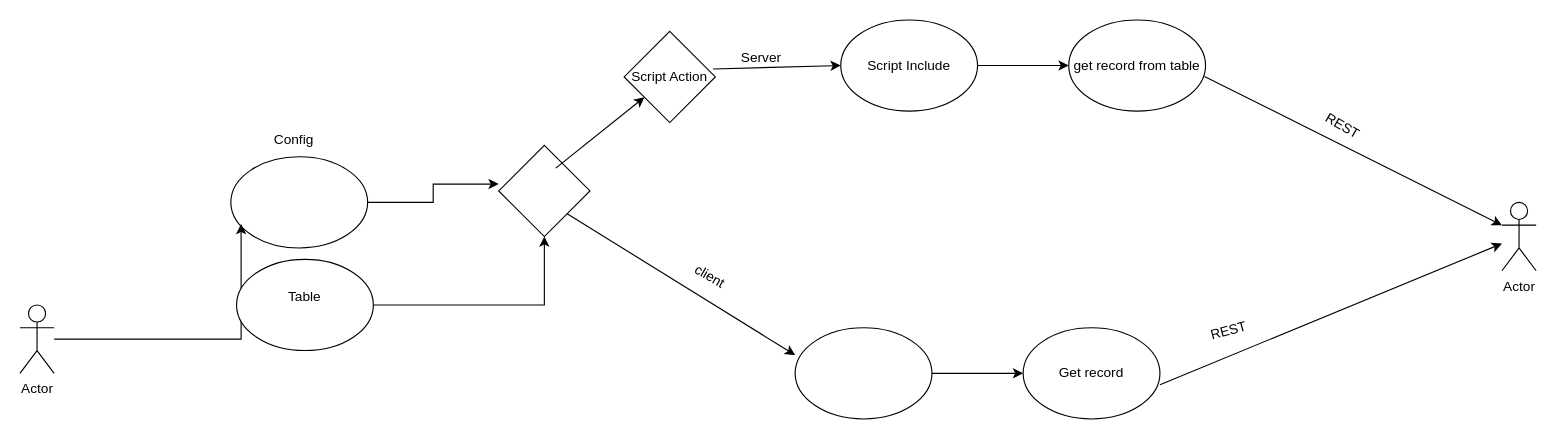
Image size: 1556x439. Some labels were removed from this diagram. The shapes that lost their labels are listed below. From the top down, each one's centre as x and y in pixels, then its label:
the point at 299,202: modes replicated/redacted
the point at 544,190: UI Action
the point at 863,373: UI Script
